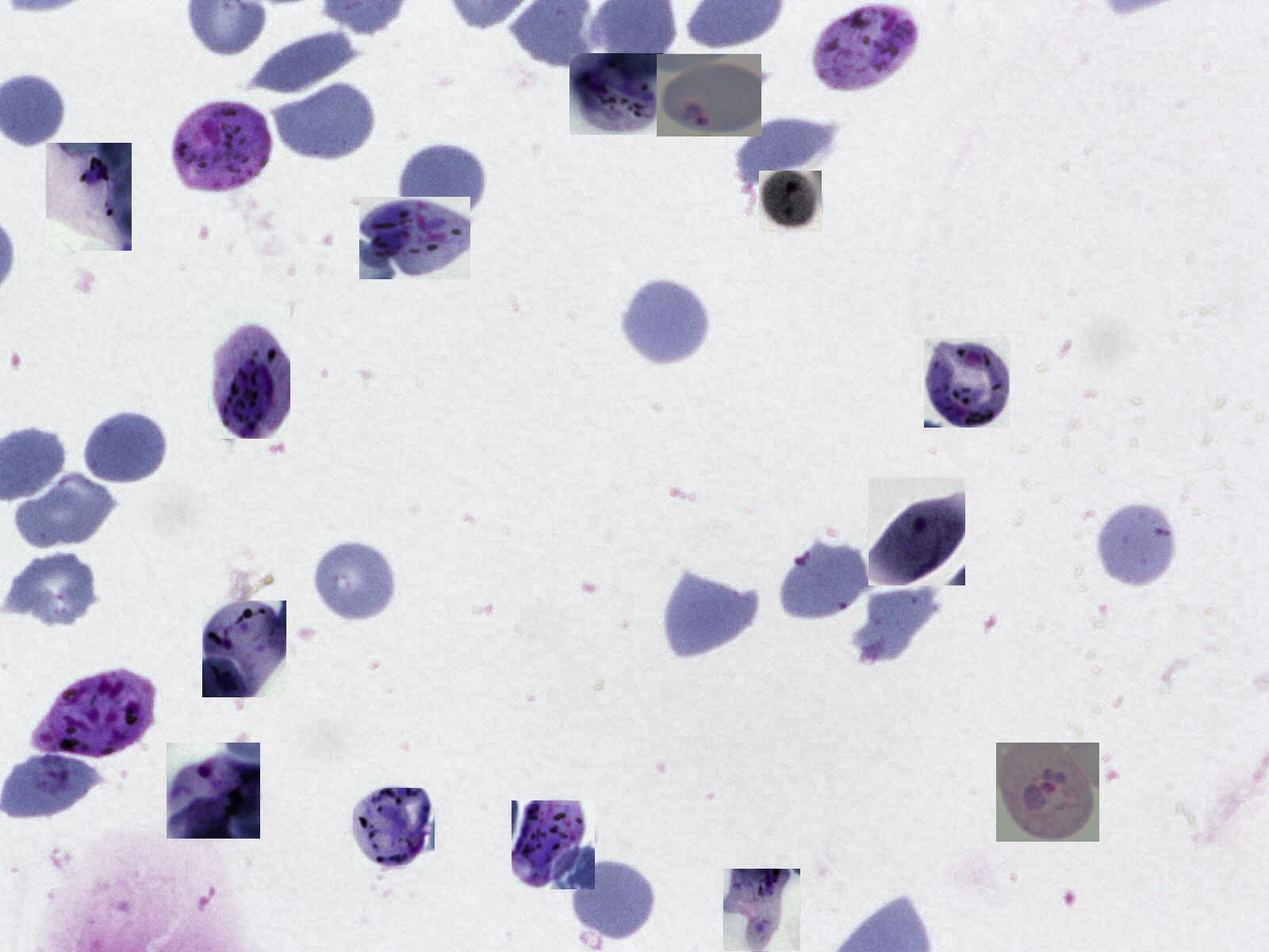Infected: (29, 663, 159, 758), (209, 305, 290, 439), (169, 95, 274, 197), (868, 478, 965, 585), (808, 0, 920, 92), (996, 743, 1099, 842), (46, 143, 132, 251), (359, 197, 470, 279), (167, 743, 260, 839), (658, 54, 762, 136), (202, 601, 286, 697), (924, 338, 1010, 428), (569, 53, 663, 135), (512, 800, 595, 889), (353, 788, 435, 867), (723, 869, 800, 951), (759, 171, 822, 232)
Uninfected: (661, 567, 761, 659), (270, 77, 375, 163), (10, 468, 113, 552), (619, 274, 711, 368), (1094, 495, 1180, 590), (779, 536, 871, 624), (311, 537, 400, 625), (398, 140, 489, 226), (737, 116, 837, 193), (565, 858, 652, 944), (5, 551, 97, 631), (81, 409, 171, 488), (251, 29, 360, 92), (854, 588, 936, 664)
